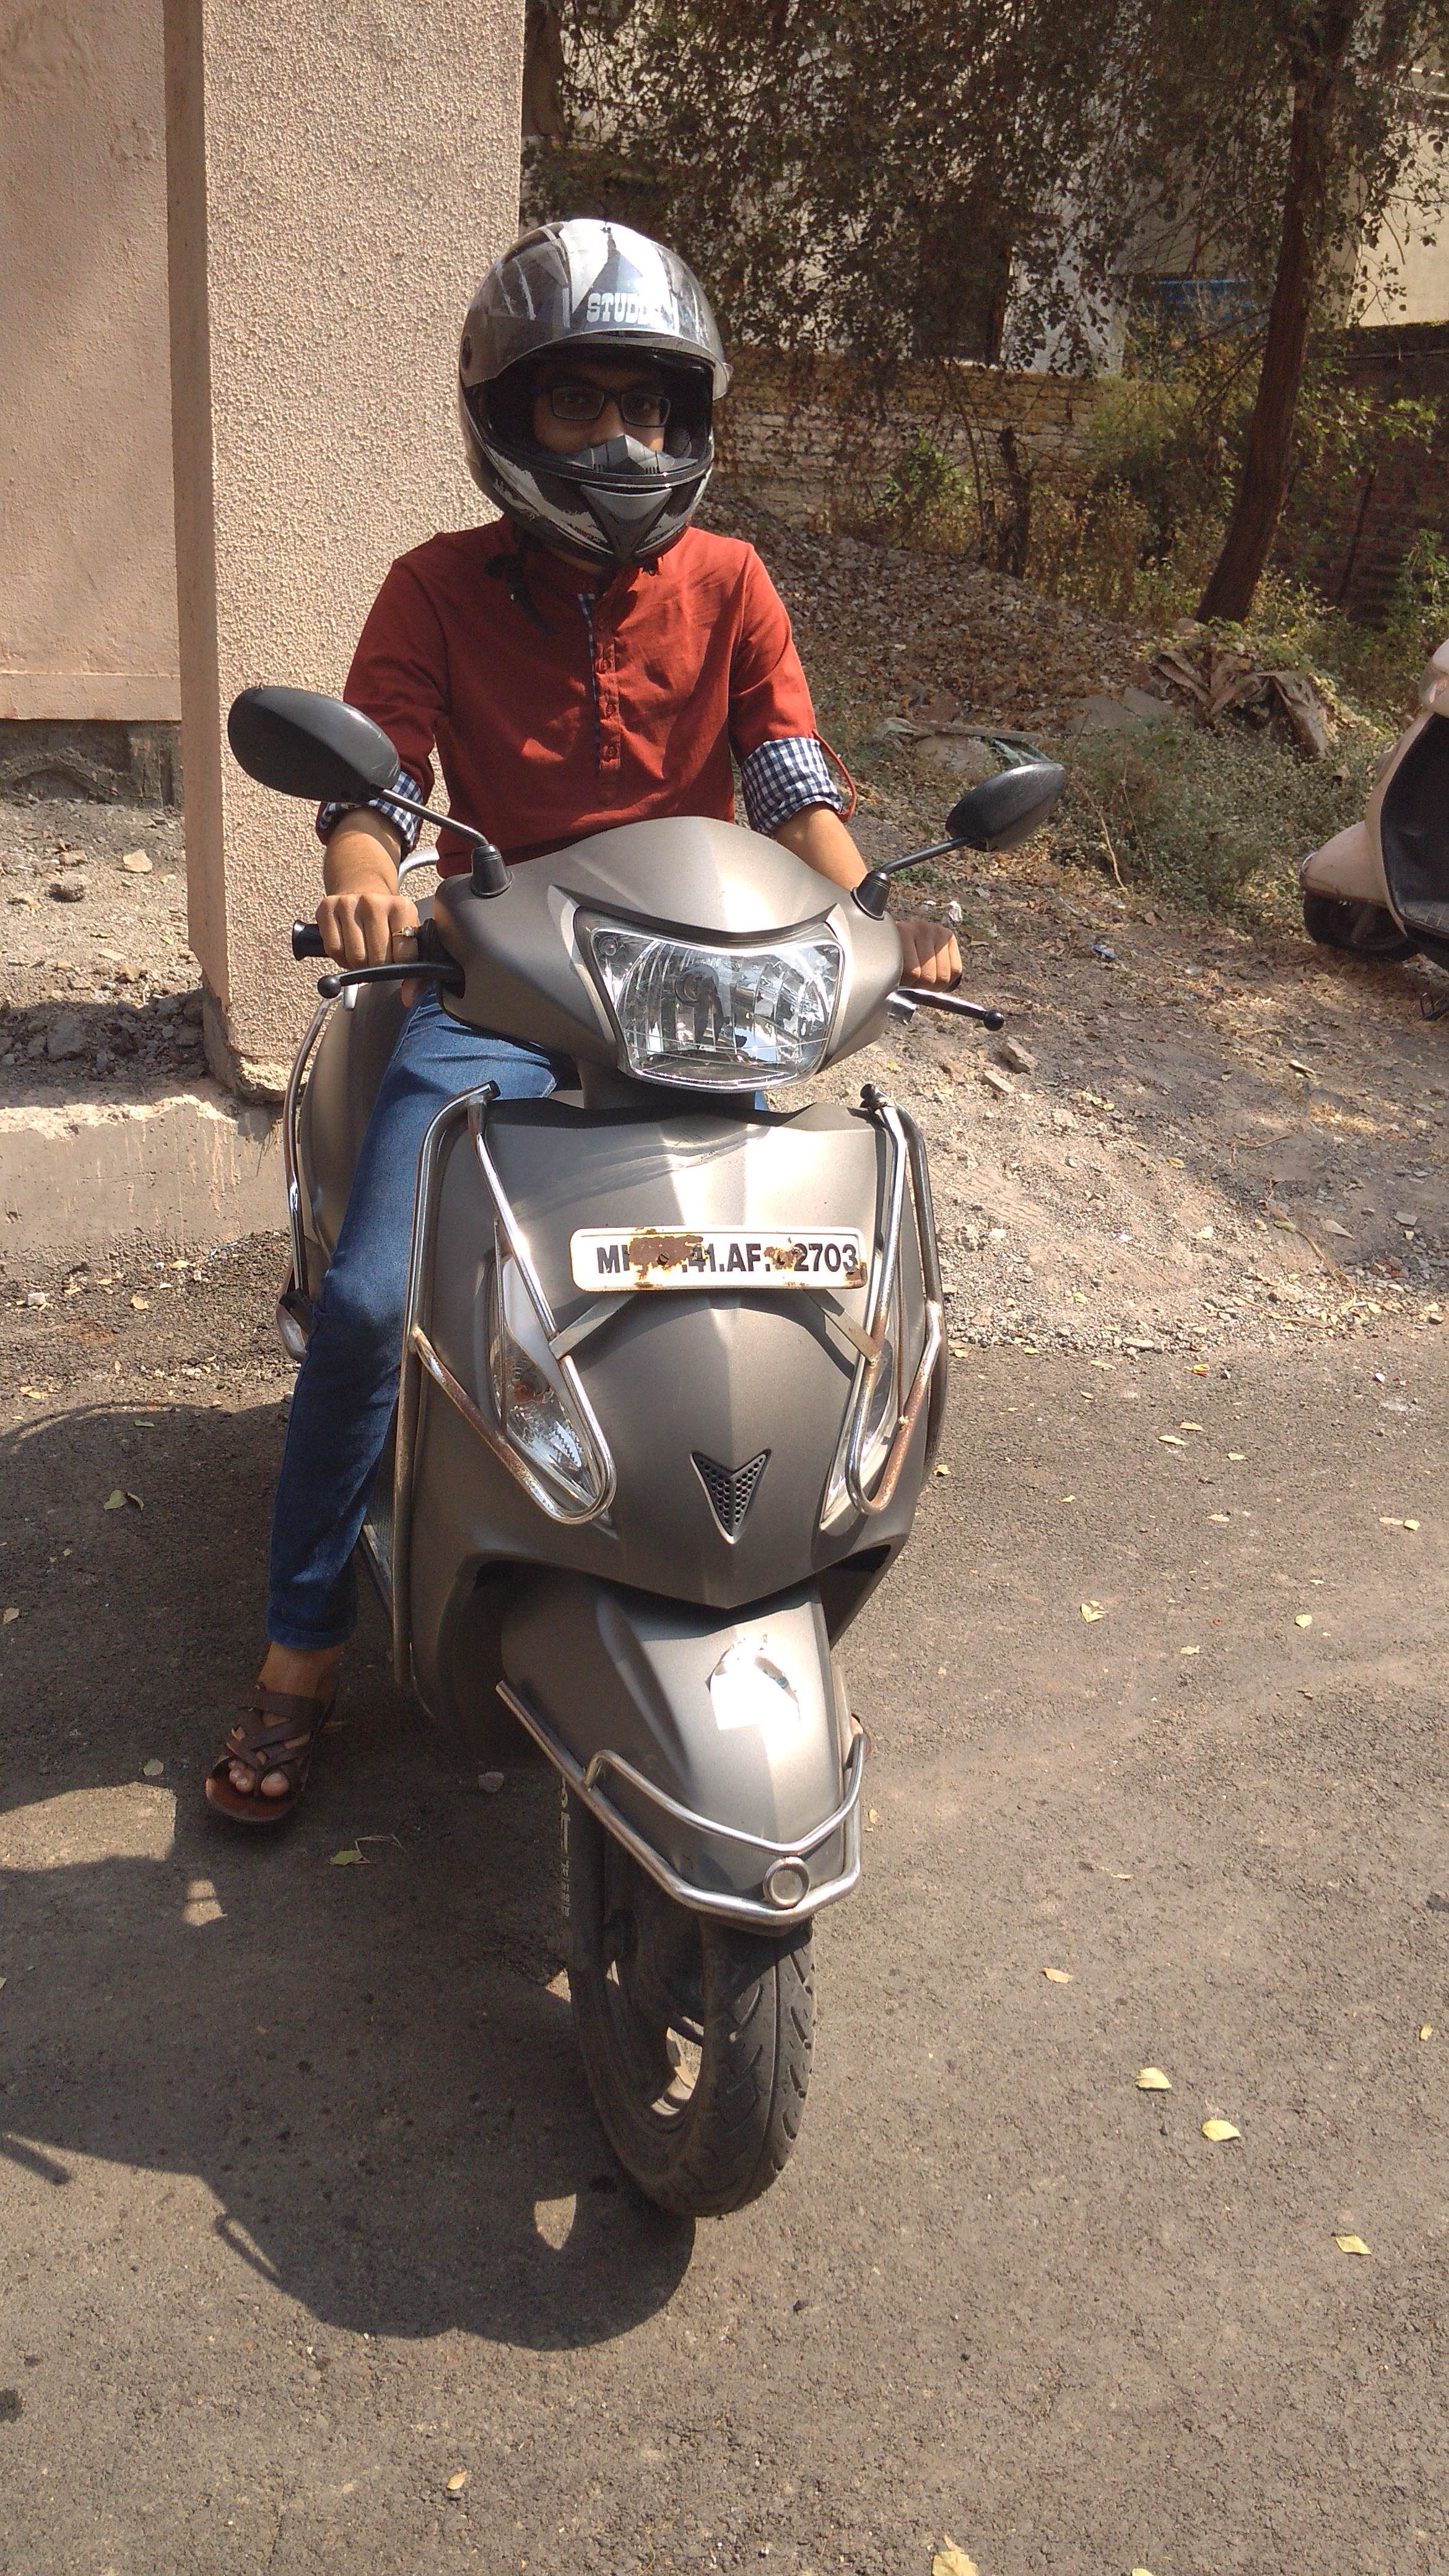helmet: (150, 173, 1067, 2250)
